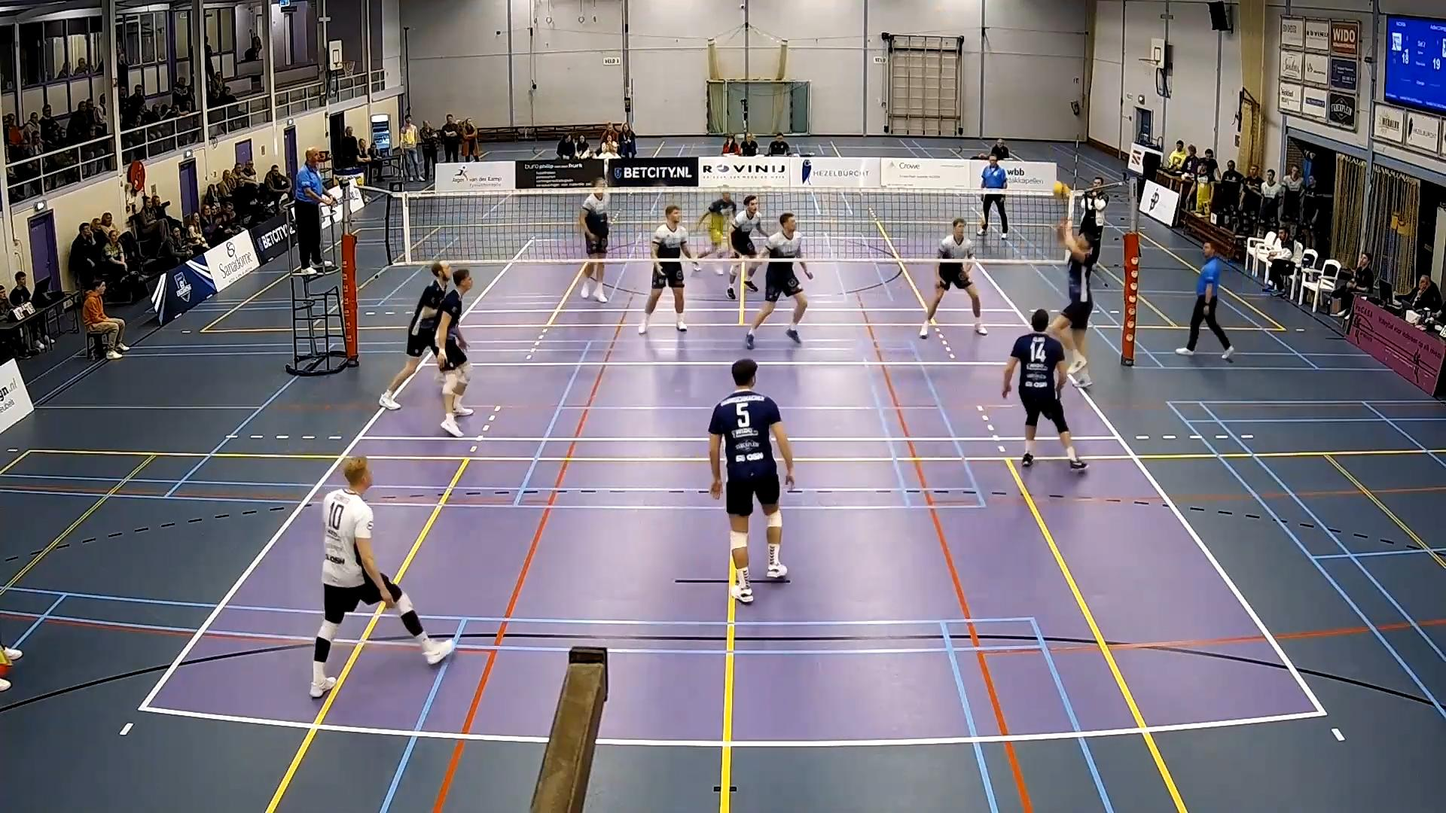alzata: (1040, 217, 1095, 372)
